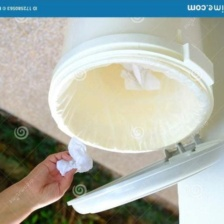tissue: (48, 132, 98, 180), (116, 58, 166, 96)
